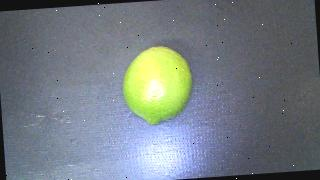EXPORTACION: (120, 44, 195, 125)
